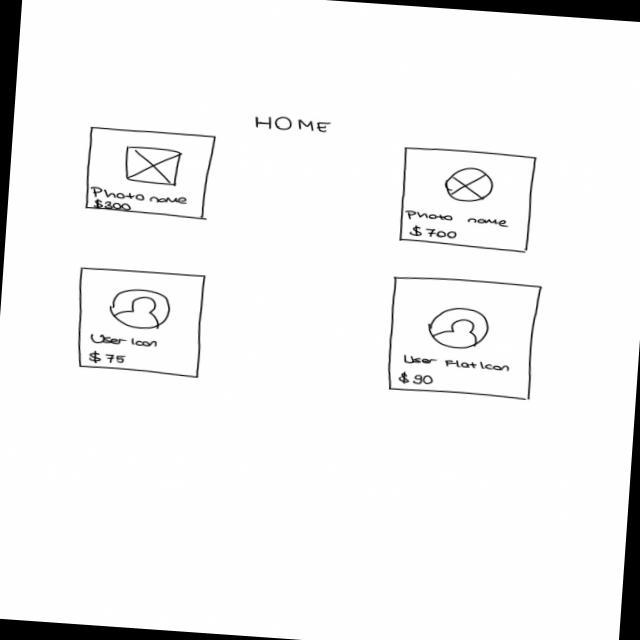container: (384, 274, 545, 403), (395, 145, 542, 255), (72, 266, 210, 381), (82, 125, 219, 222)
image: (426, 305, 492, 352), (110, 288, 174, 332), (123, 145, 183, 188), (444, 166, 497, 206)
label: (405, 209, 512, 231), (402, 354, 515, 373), (90, 186, 191, 207), (253, 113, 335, 136), (90, 334, 161, 351), (410, 225, 459, 242), (89, 350, 128, 368), (400, 372, 436, 388), (91, 199, 134, 211)
